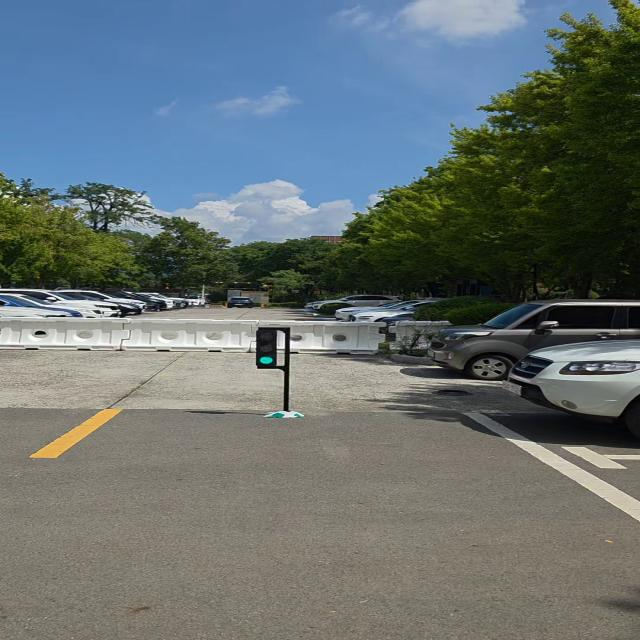green: (254, 326, 282, 367)
